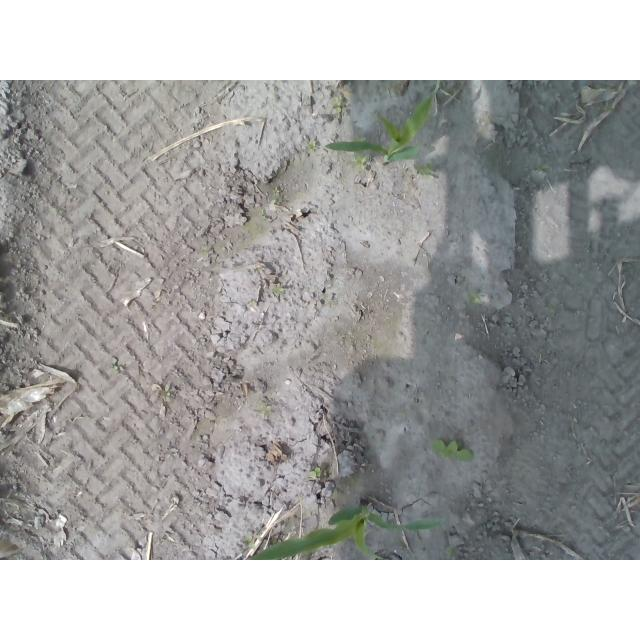Maize: (250, 510, 442, 560), (325, 98, 438, 164)
Weeds: (429, 439, 471, 463), (416, 165, 439, 180), (256, 403, 273, 418), (466, 291, 483, 306), (111, 355, 124, 373), (353, 156, 370, 169), (446, 546, 461, 560), (161, 385, 172, 403), (331, 99, 343, 113), (306, 141, 318, 153), (312, 467, 323, 478), (272, 287, 284, 297), (272, 185, 281, 193)
